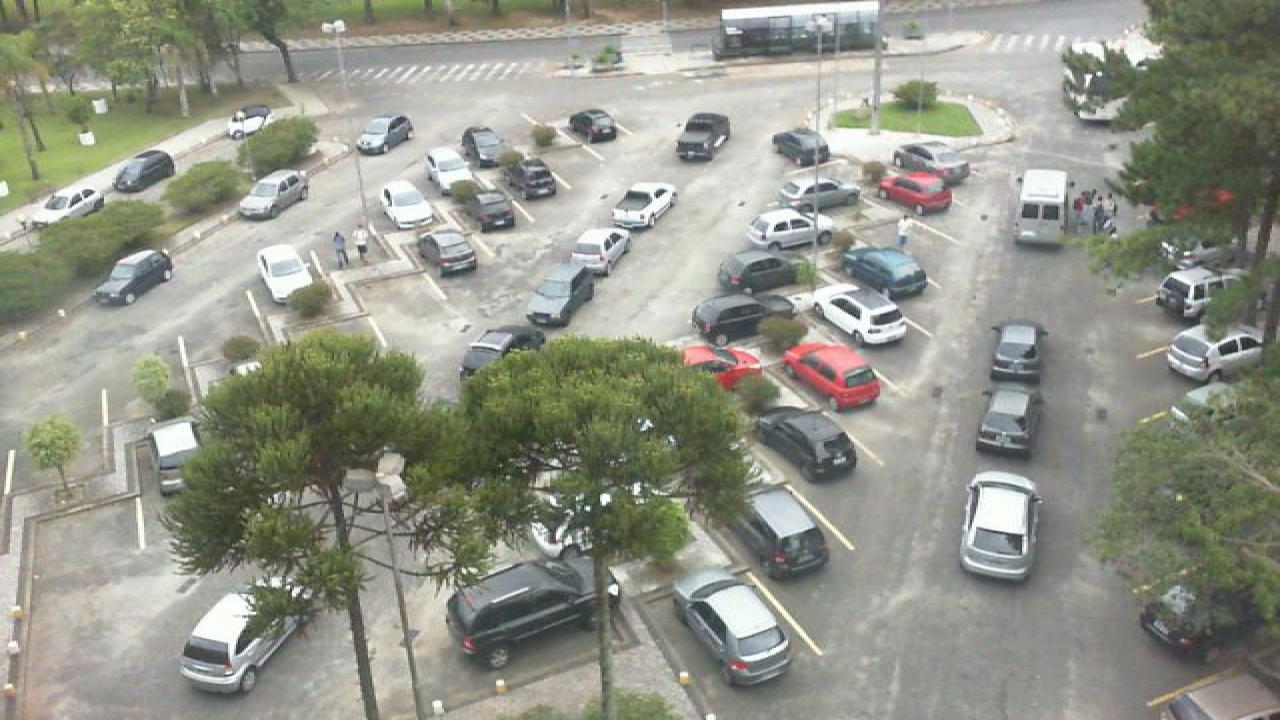Car: (442, 556, 626, 670), (176, 581, 310, 694), (674, 566, 796, 688), (720, 483, 830, 584), (960, 470, 1044, 583), (756, 405, 858, 483), (784, 341, 882, 412), (1164, 323, 1272, 382), (812, 286, 910, 346), (690, 292, 796, 347), (674, 338, 766, 393), (146, 416, 206, 496), (460, 325, 546, 380), (1152, 267, 1246, 317), (94, 249, 174, 307), (976, 387, 1040, 459), (522, 266, 596, 328), (842, 248, 928, 300), (716, 248, 806, 294), (254, 241, 318, 302), (238, 166, 310, 219), (876, 168, 954, 214), (988, 322, 1044, 384), (24, 187, 110, 227), (612, 180, 678, 232), (894, 141, 974, 182), (744, 207, 820, 250), (418, 228, 480, 280), (778, 176, 862, 214), (110, 148, 176, 196), (352, 112, 416, 158), (380, 178, 432, 233), (570, 228, 632, 274), (676, 111, 732, 161), (772, 126, 832, 169), (506, 156, 560, 200), (466, 190, 516, 234), (422, 144, 470, 189), (224, 104, 276, 142), (566, 107, 618, 144), (460, 125, 504, 165)
